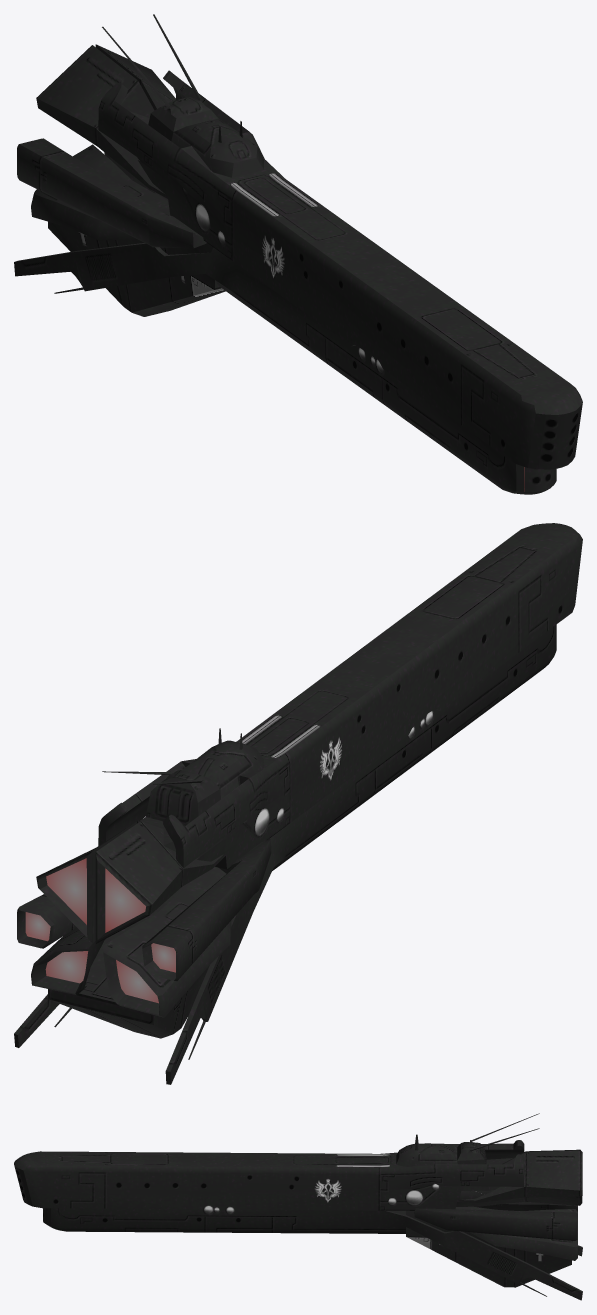
File: GE_CommandShip_KonigsTiger.obj
3 views of the same model, one above another, from view 1: azimuth 30°, elevation 25°; view 2: azimuth 150°, elevation 25°; view 3: azimuth 270°, elevation 25° (orthographic). The views are drawn at different scales.
Parts seen in each view (by area): view 1: GE_CommandShip_KonigsTiger; view 2: GE_CommandShip_KonigsTiger; view 3: GE_CommandShip_KonigsTiger.
Boxes of the visible parts, x1,y1,x2,y2 form: GE_CommandShip_KonigsTiger: (14, 14, 582, 494); GE_CommandShip_KonigsTiger: (14, 523, 582, 1084); GE_CommandShip_KonigsTiger: (14, 1113, 582, 1300).
Bounding box in the file's own units: 128 × 206 × 652.
